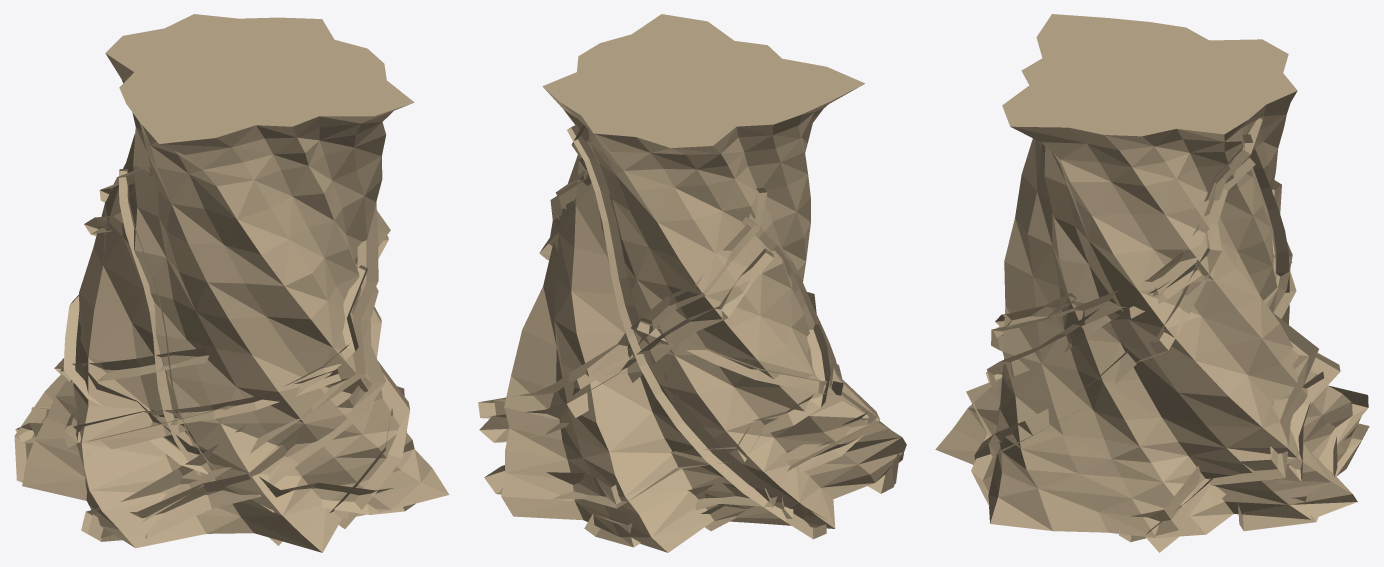
Rendered from tree-heart-trunk-b.glb.
3 views of the same model, side by side, from view 1: azimuth 30°, elevation 25°; view 2: azimuth 150°, elevation 25°; view 3: azimuth 270°, elevation 25° (orthographic). The views are drawn at different scales.
Parts seen in each view (by area): view 1: tree-heart-trunk-b; view 2: tree-heart-trunk-b; view 3: tree-heart-trunk-b.
Boxes of the visible parts, x1,y1,x2,y2 form: tree-heart-trunk-b: (14, 14, 449, 552); tree-heart-trunk-b: (478, 14, 906, 552); tree-heart-trunk-b: (935, 14, 1369, 552).
Bounding box in the file's own units: 0.932 × 1 × 0.9866.
